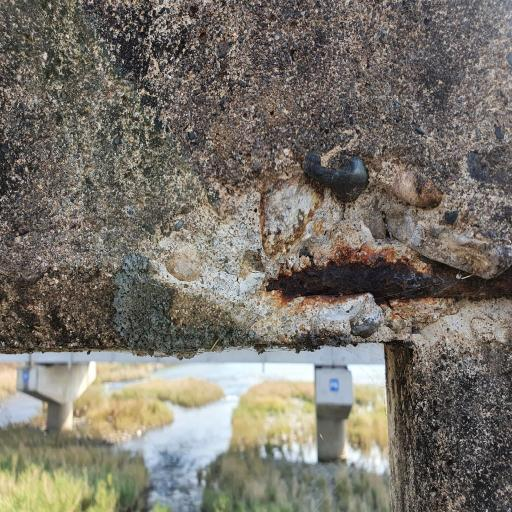exposed_rebar: (266, 261, 512, 300)
